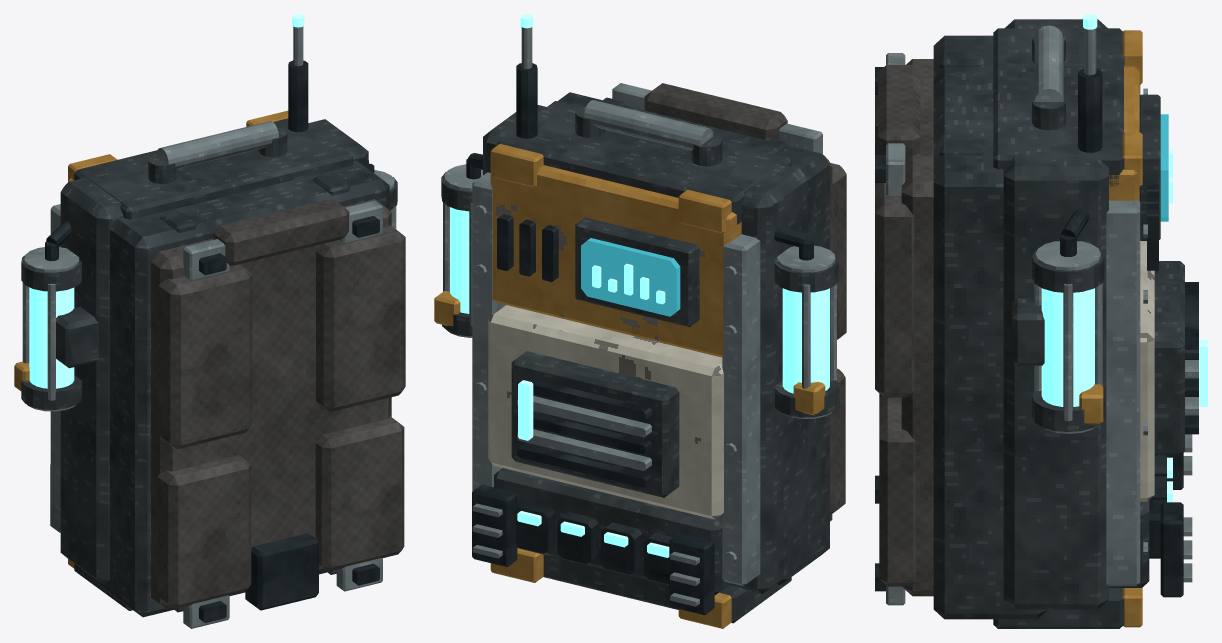
The model's file is backpack_research.glb.
3 renders of one model, left to right at view 1: azimuth 30°, elevation 25°; view 2: azimuth 150°, elevation 25°; view 3: azimuth 270°, elevation 25°, orthographic. The views are drawn at different scales.
Visible parts, largest first — view 1: backpack_research; view 2: backpack_research; view 3: backpack_research.
Boxes of the visible parts, bbox=[...] form: backpack_research: bbox=[14, 14, 405, 628]; backpack_research: bbox=[434, 14, 846, 628]; backpack_research: bbox=[875, 14, 1207, 628].
Size of the model in its own units: 0.4162 by 0.5525 by 0.2755.
8 materials, 6 textured.
